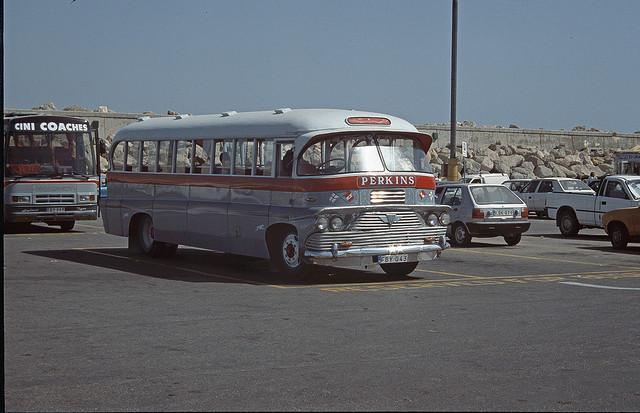bus: (104, 109, 453, 279), (4, 112, 101, 232)
car: (433, 182, 531, 248), (507, 176, 591, 218)
truck: (546, 175, 640, 239)
